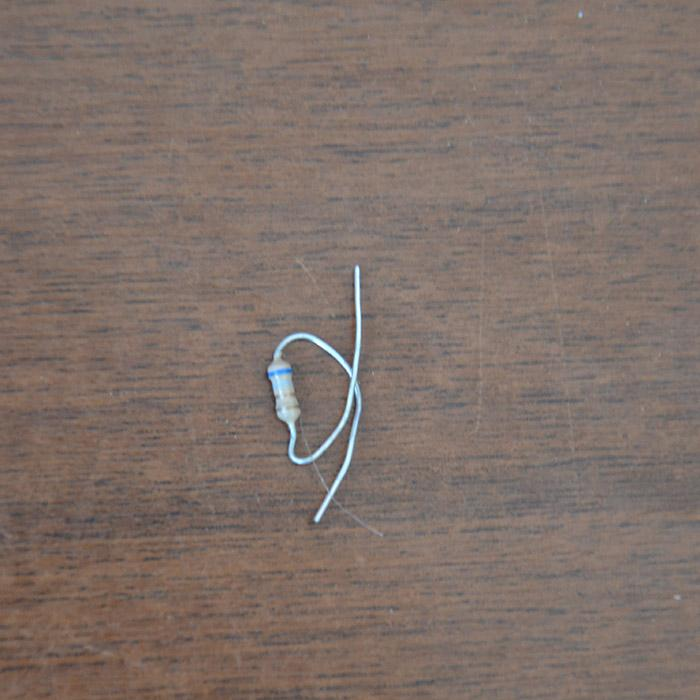resistor: (266, 359, 305, 425)
